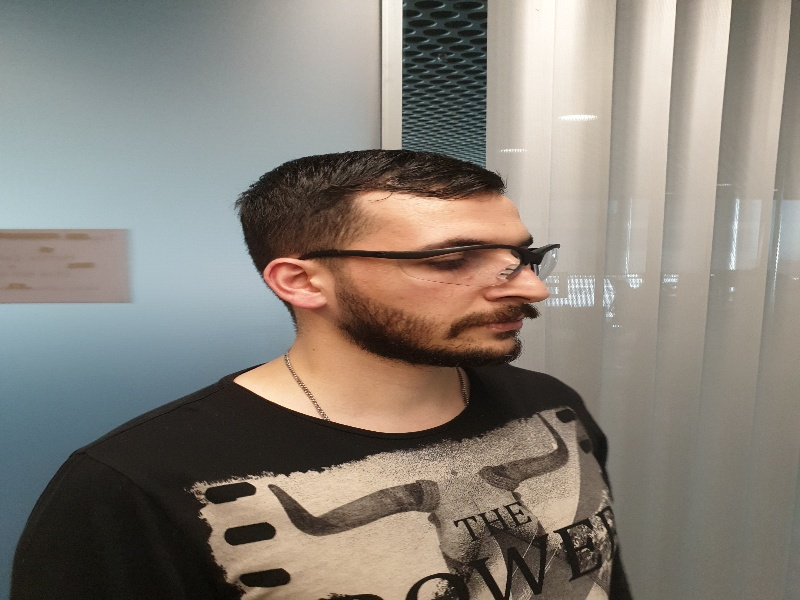Gozluk: (304, 243, 565, 276)
